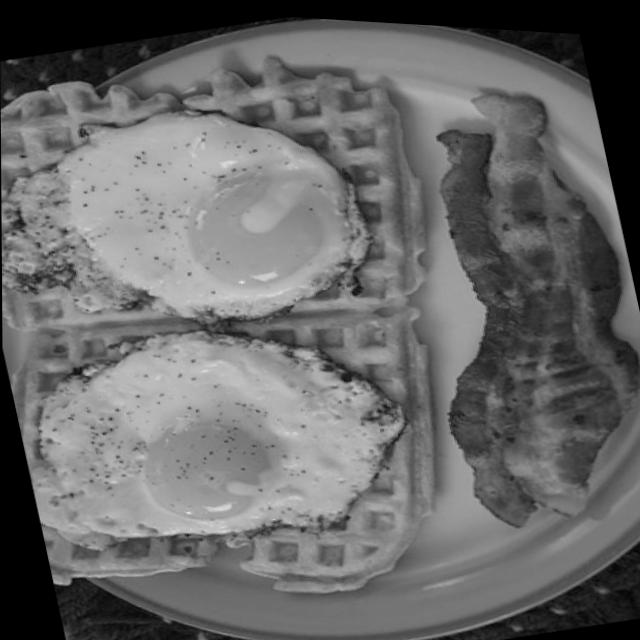鸡蛋料理: (2, 268, 440, 588), (0, 61, 387, 380)
